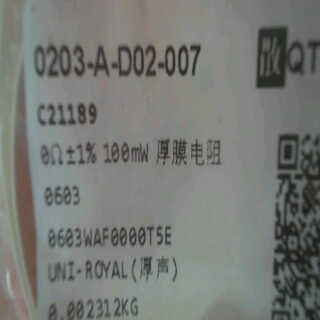0R: (32, 136, 98, 214)
